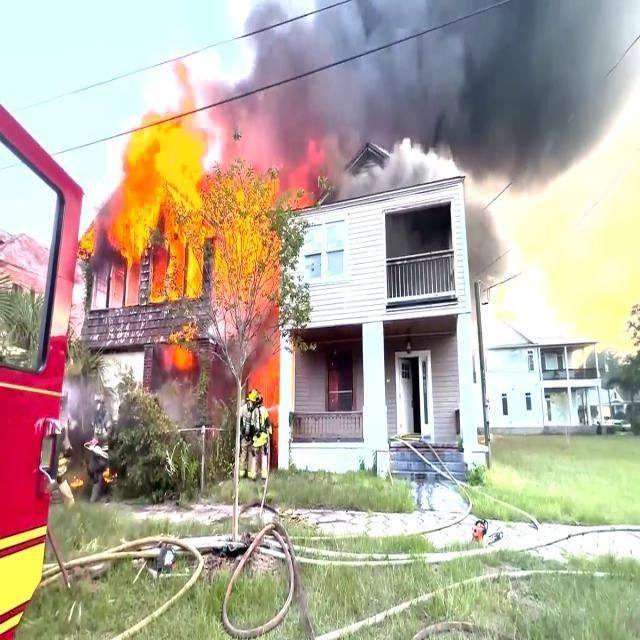Fire: (116, 110, 210, 302), (230, 170, 269, 410)
Smoke: (250, 9, 630, 171)
